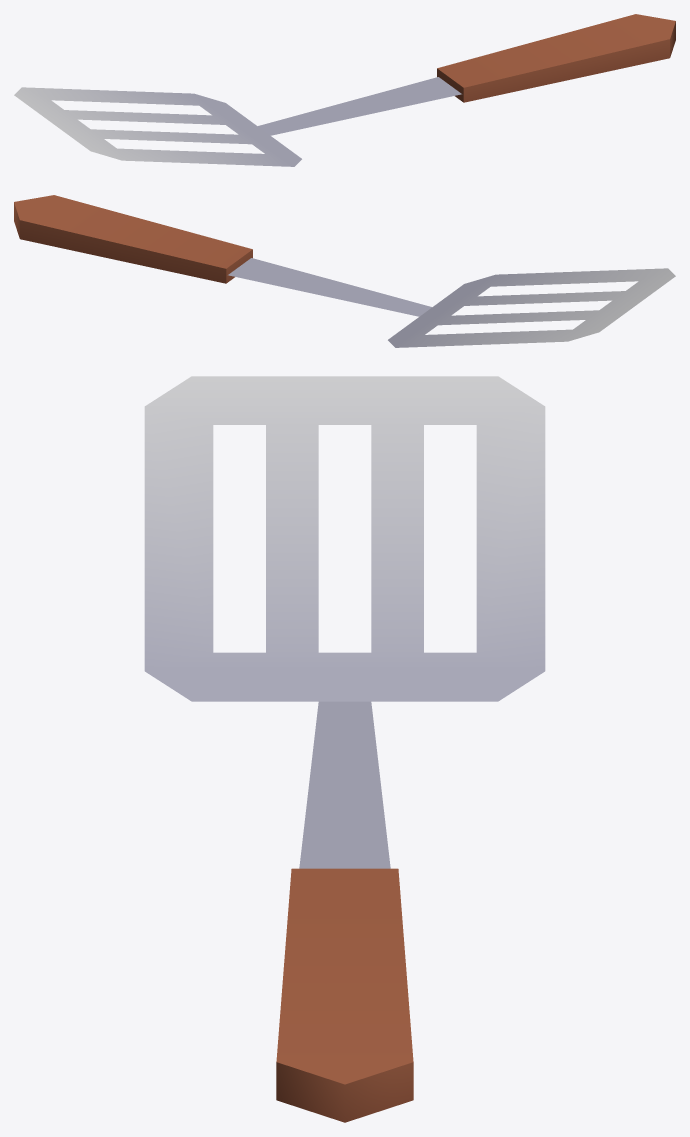
Rendered from cooking-spatula.glb.
3 views of the same model, one above another, from view 1: azimuth 30°, elevation 25°; view 2: azimuth 150°, elevation 25°; view 3: azimuth 270°, elevation 25° (orthographic). The views are drawn at different scales.
Parts seen in each view (by area): view 1: cooking-spatula; view 2: cooking-spatula; view 3: cooking-spatula.
Part boxes in pixels (left/top/right/bottom): cooking-spatula: left=14, top=14, right=675, bottom=166; cooking-spatula: left=14, top=195, right=675, bottom=347; cooking-spatula: left=144, top=376, right=545, bottom=1122.
Bounding box in the file's own units: 0.6827 × 0.0721 × 0.19.
